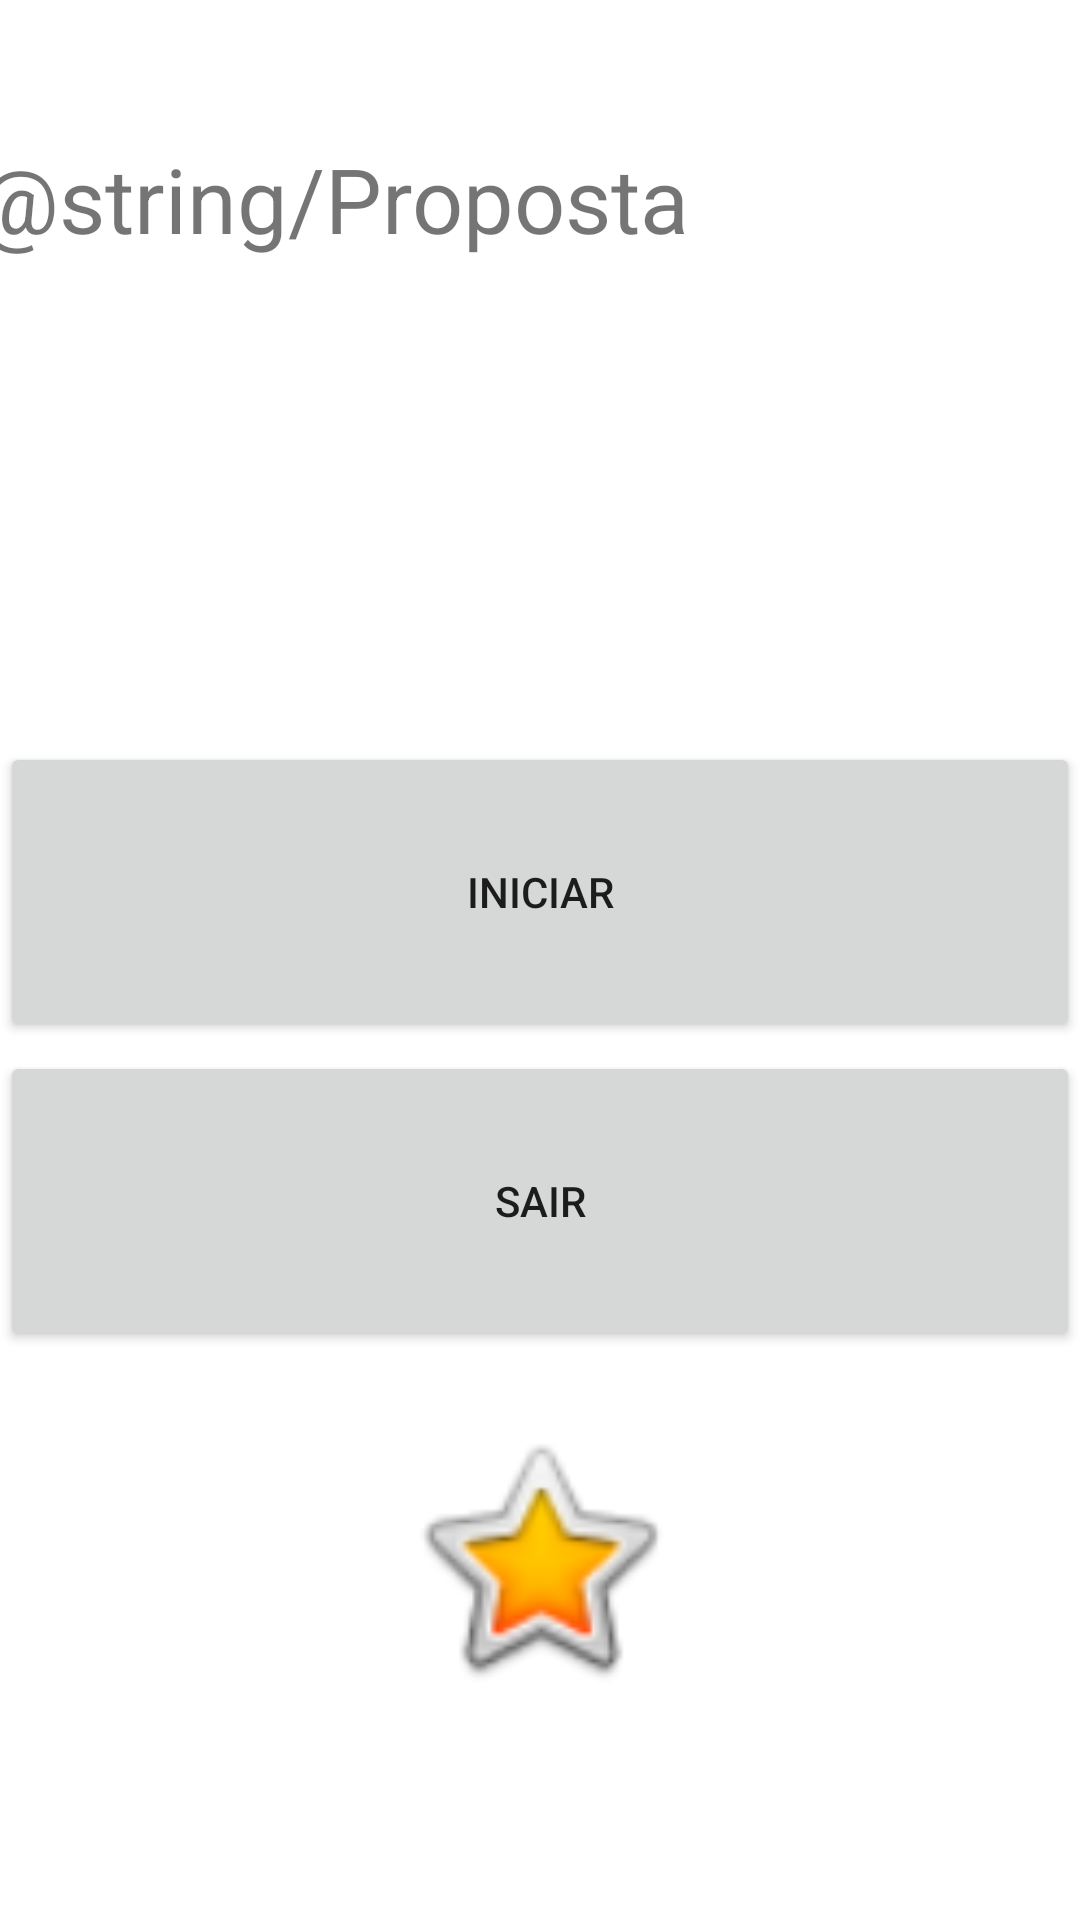

Screen size 1080×1920. Icon name, then its box in pixels as (x1, y1, x2, y2):
star on: (425, 1447, 658, 1674)
